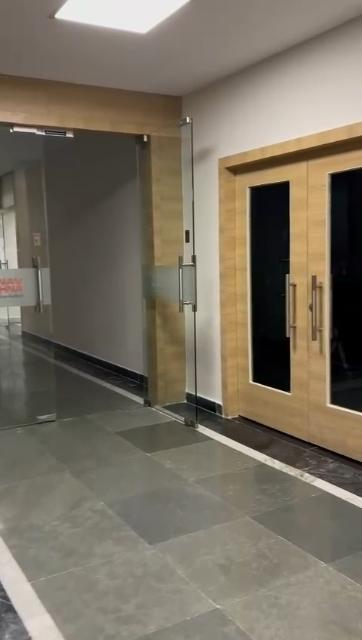door: (209, 157, 362, 441)
floor: (0, 342, 358, 638)
wall: (45, 150, 148, 356), (196, 8, 361, 122)
